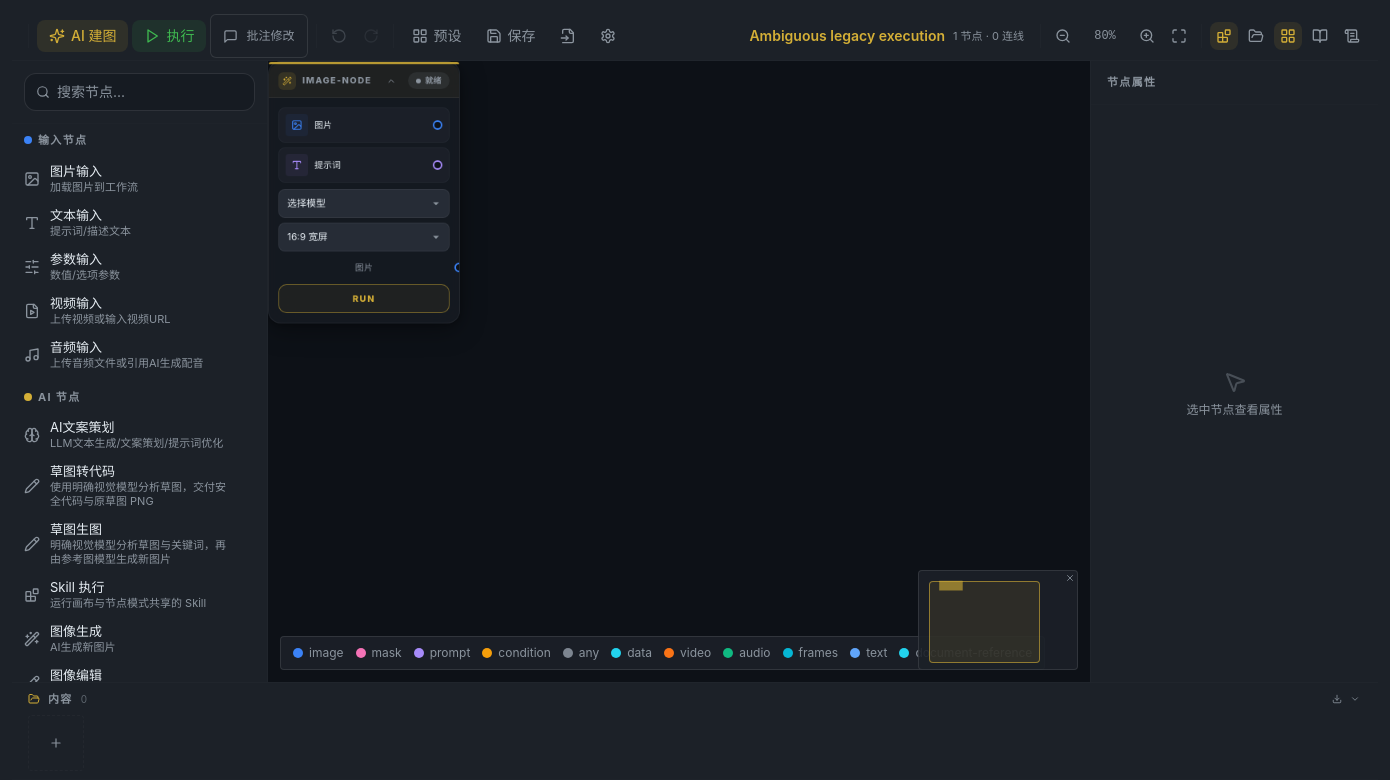
Test: workflow inline exact model selection › blocks unresolved image execution before a request: 执行工作流 / gpt-image-2
Click the button with aria-label "执行工作流": (170, 36) [132,20,206,52]
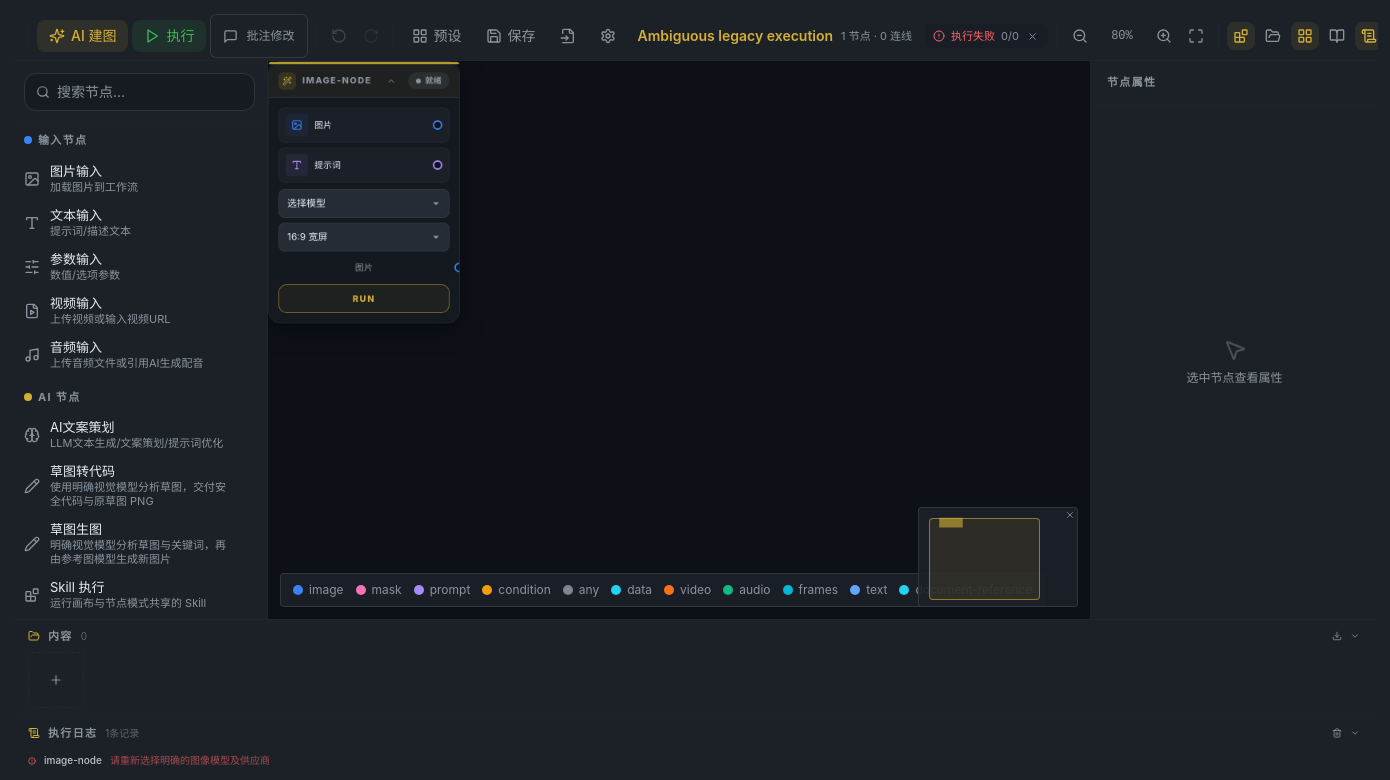
Now the text "请重新选择明确的图像模型及供应商" is shown, box [110,754,270,766]
